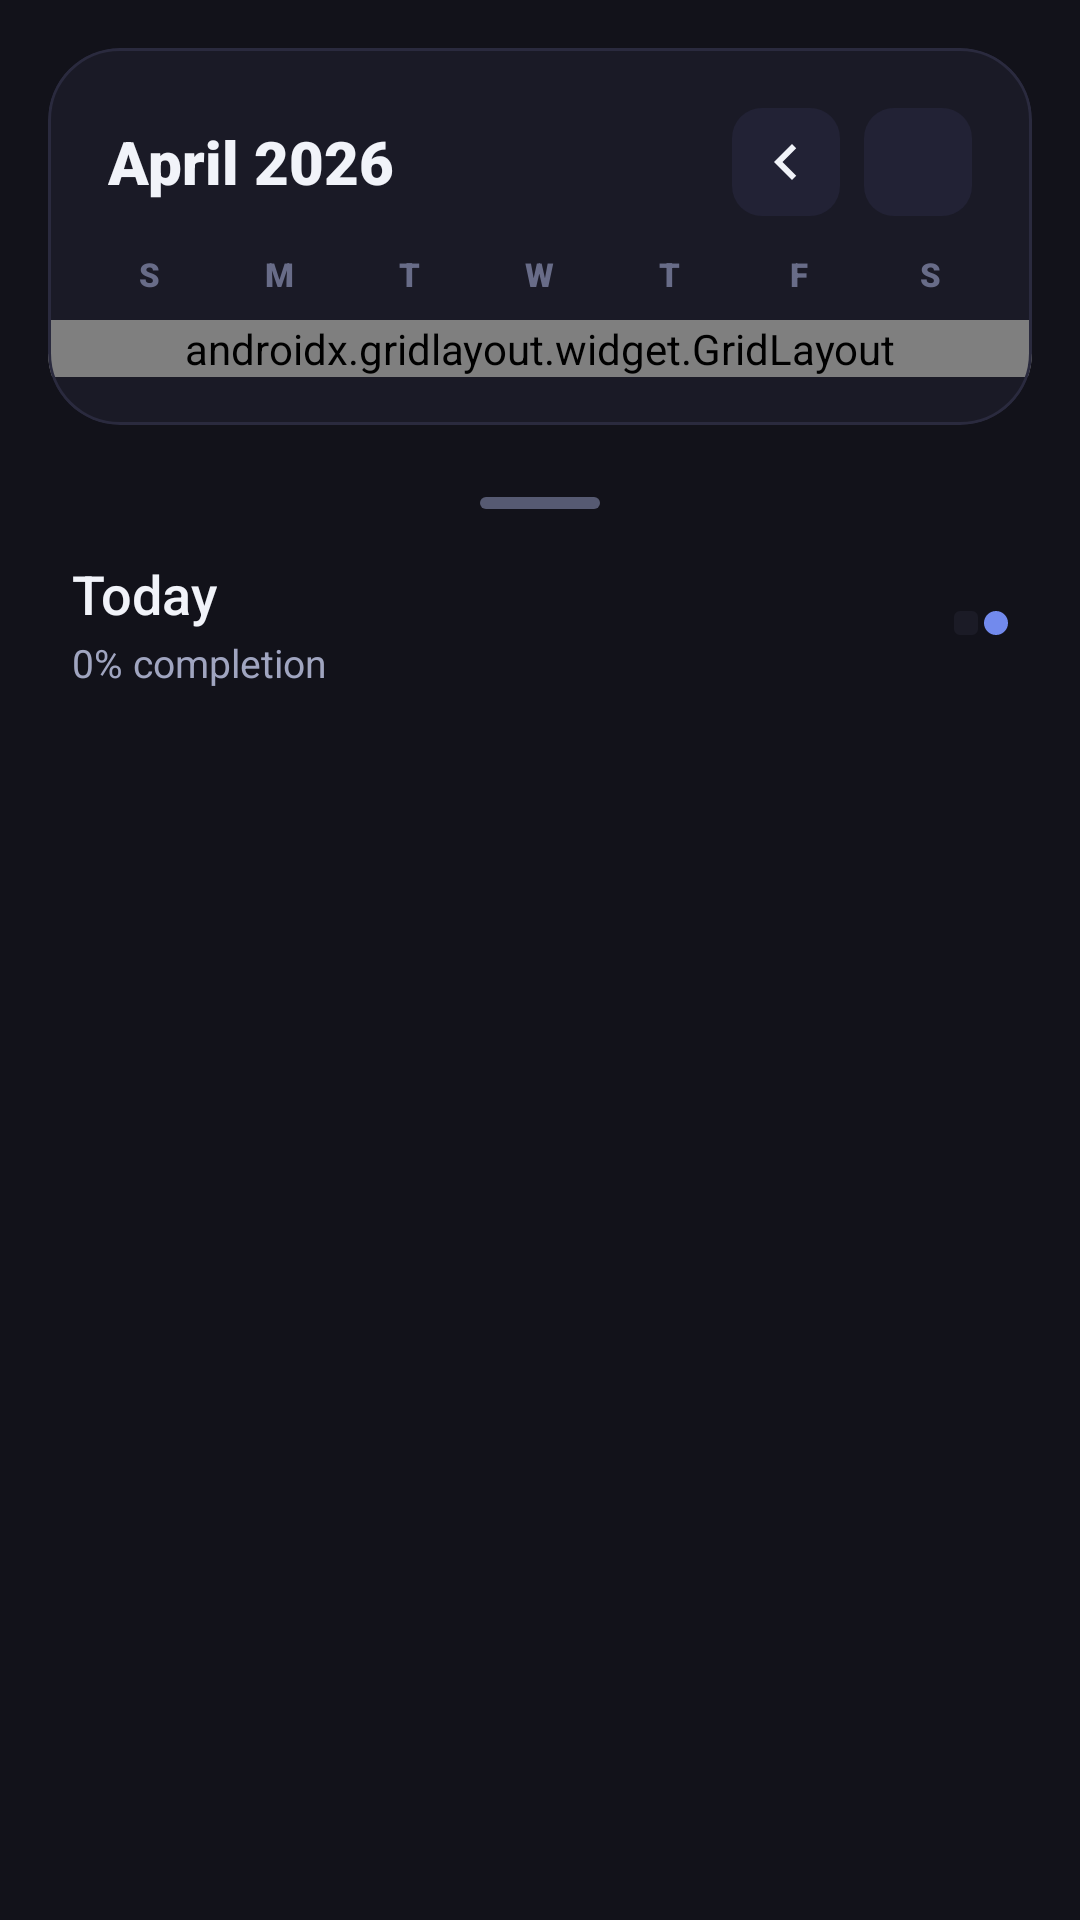

Screen size 1080x1920. Icon name, then its box in pixels as Rect(x1, y1, x2, y2):
Previous month: Rect(732, 108, 840, 216)
